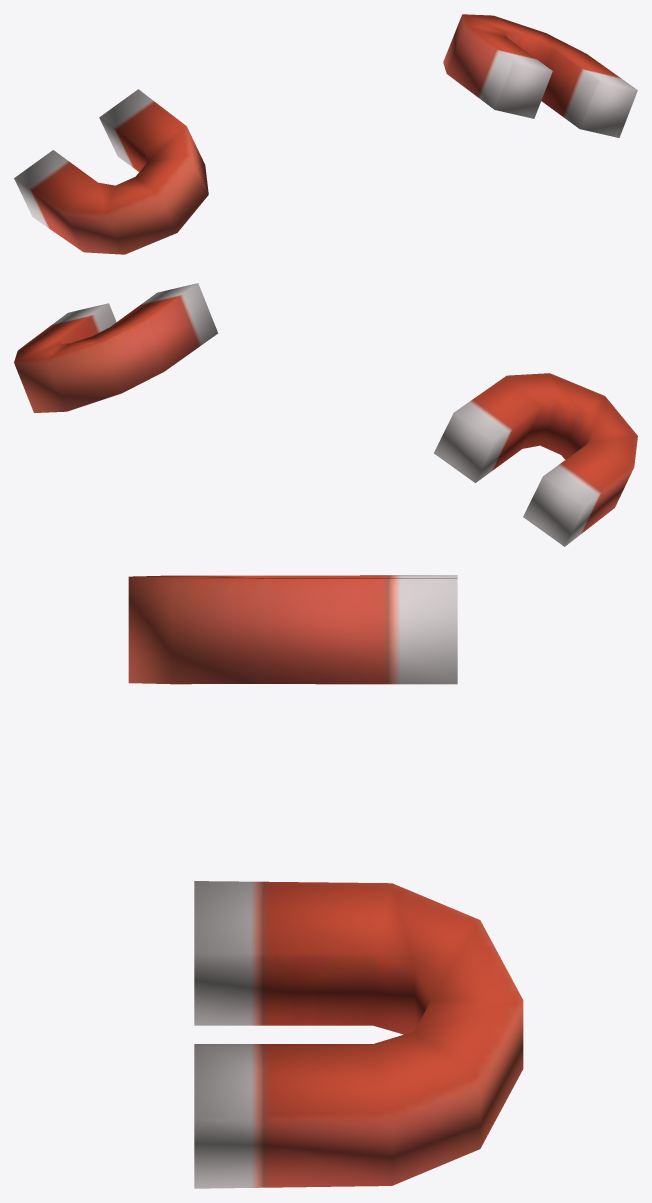
File: PowerUp_Magnet.obj
The picture shows the model from 3 angles, top to bottom: view 1: azimuth 30°, elevation 25°; view 2: azimuth 150°, elevation 25°; view 3: azimuth 270°, elevation 25°; orthographic projection. The views are drawn at different scales.
Visible parts, largest first — view 1: Magnet_Effect_Model; view 2: Magnet_Effect_Model; view 3: Magnet_Effect_Model.
Boxes of the visible parts, x1,y1,x2,y2 form: Magnet_Effect_Model: (14, 14, 637, 254); Magnet_Effect_Model: (14, 283, 637, 546); Magnet_Effect_Model: (128, 575, 523, 1188).
Bounding box in the file's own units: 3.57 × 0.6254 × 1.09.
1 material, 1 textured.
